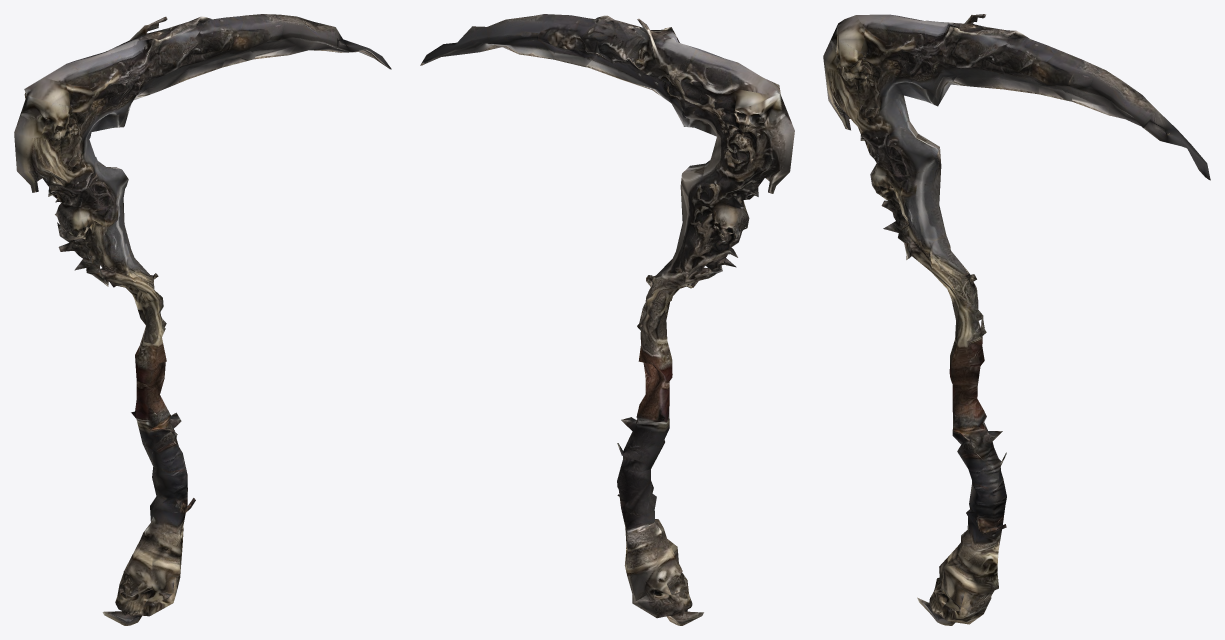
The model's file is 1674_scythe.glb.
The picture shows the model from 3 angles, left to right: view 1: azimuth 30°, elevation 25°; view 2: azimuth 150°, elevation 25°; view 3: azimuth 330°, elevation 25°; orthographic projection. The views are drawn at different scales.
Parts seen in each view (by area): view 1: Model; view 2: Model; view 3: Model.
Part boxes in pixels (x1,y1,x2,y2): Model: (14, 14, 391, 625); Model: (420, 14, 794, 625); Model: (823, 14, 1210, 625).
Bounding box in the file's own units: 0.6576 × 1 × 0.0842.
Materials: 1 (1 with a texture image).
